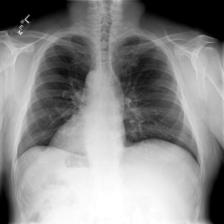normal: (11, 30, 206, 173)
